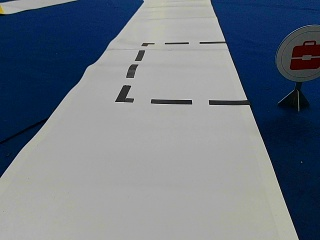company: (275, 24, 319, 80)
